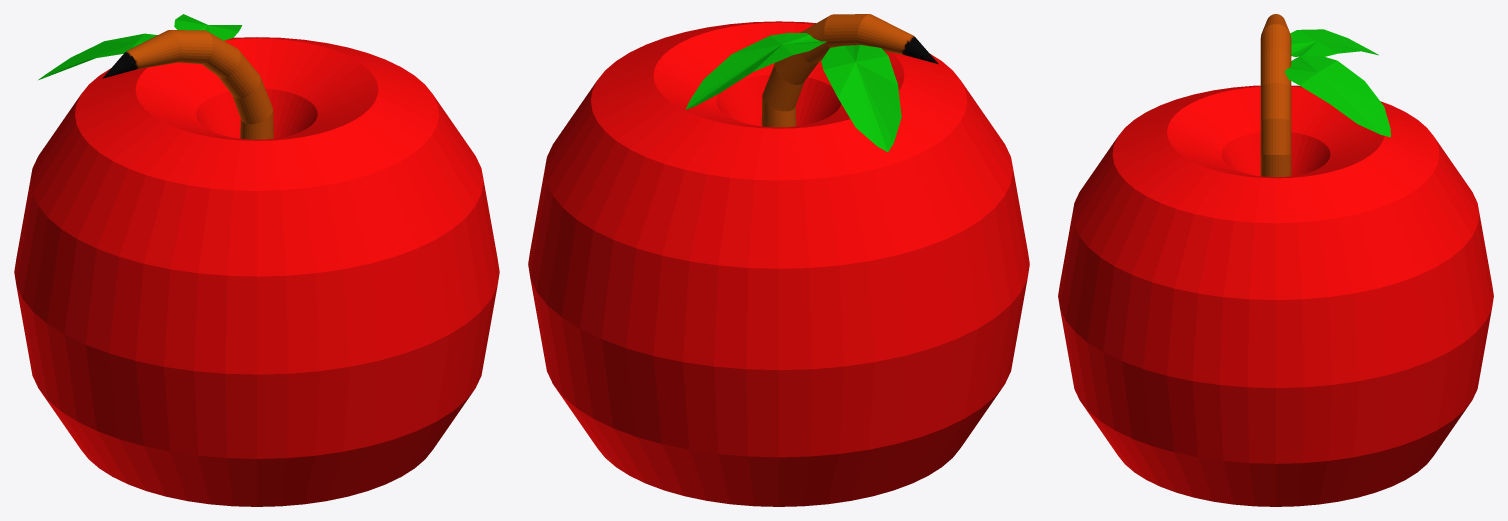
Rendered from food.gltf.
3 views of the same model, side by side, from view 1: azimuth 30°, elevation 25°; view 2: azimuth 150°, elevation 25°; view 3: azimuth 270°, elevation 25° (orthographic). The views are drawn at different scales.
Parts seen in each view (by area): view 1: Torus; view 2: Torus; view 3: Torus.
Boxes of the visible parts, bbox=[...] form: Torus: bbox=[14, 14, 499, 506]; Torus: bbox=[528, 14, 1029, 506]; Torus: bbox=[1058, 14, 1493, 506].
Bounding box in the file's own units: 0.4 × 0.4036 × 0.4.
1 material, 1 textured.
